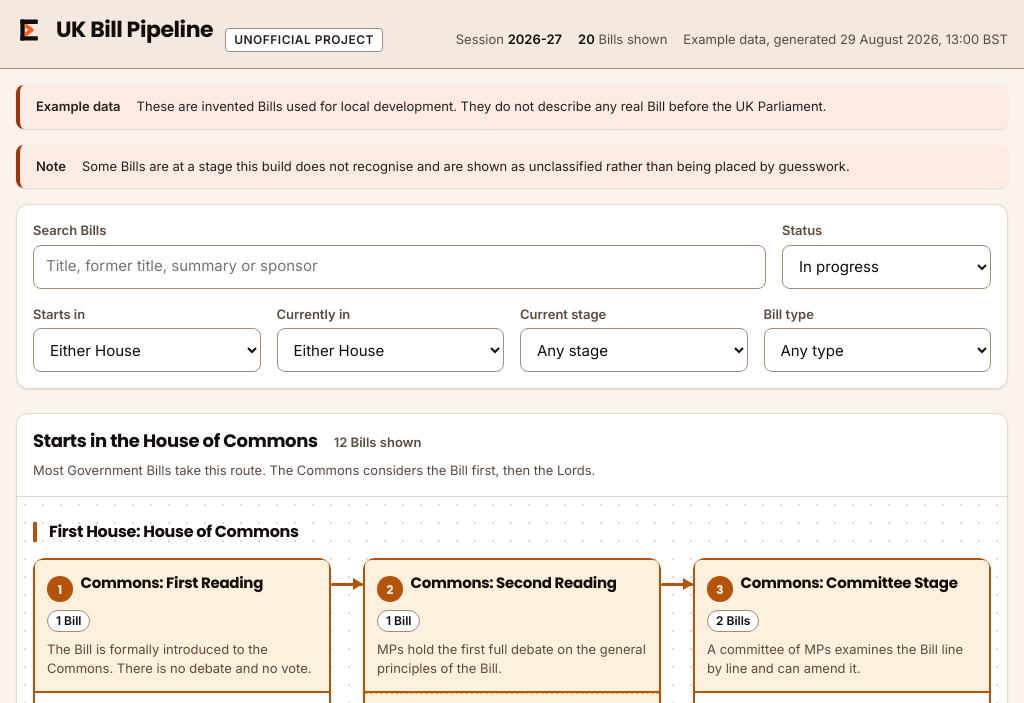
Test: placement of Bills › hides concluded Bills by default and shows them when selected
This screenshot has width=1024, height=703.
Expected: the heading "Starts in the House of Commons" is shown, x1=33 y1=430 x2=318 y2=452
Expected: the button "Local Referendums Bill" is not shown
Select "Withdrawn or defeated" in the dropdown labelled "Status". click: {"x": 886, "y": 266}
box: x1=782 y1=244 x2=991 y2=288
(page scrolled)
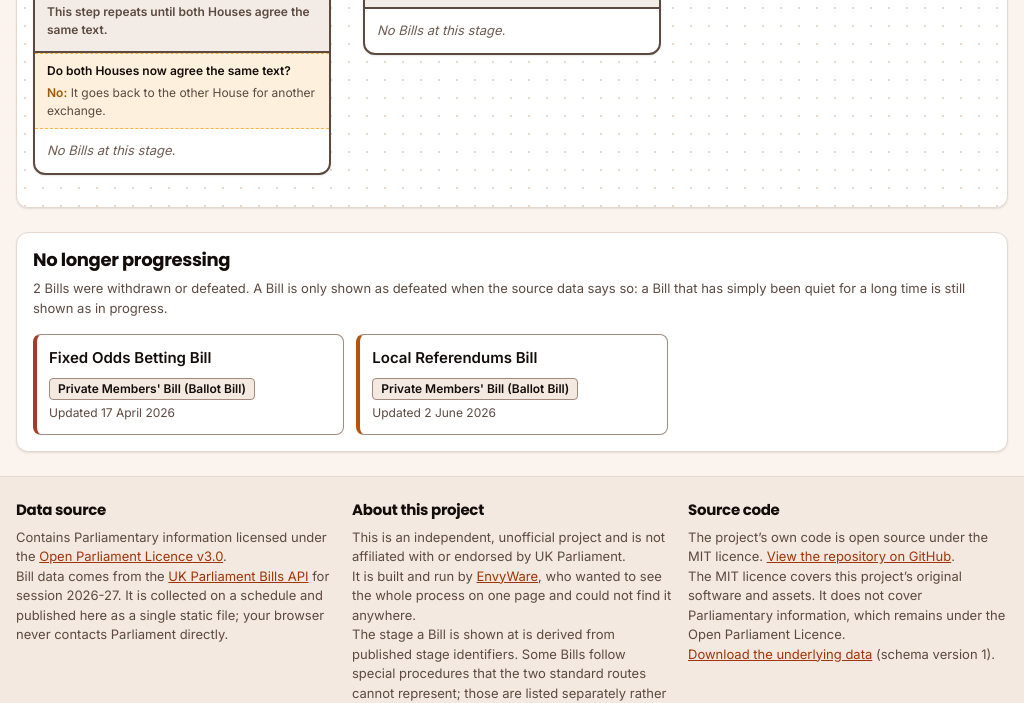
Expected: the heading "No longer progressing" is shown, x1=33 y1=247 x2=230 y2=272
Expected: the button "Local Referendums Bill" is shown, x1=356 y1=334 x2=668 y2=435
Expected: the button "Fixed Odds Betting Bill" is shown, x1=33 y1=334 x2=344 y2=435
